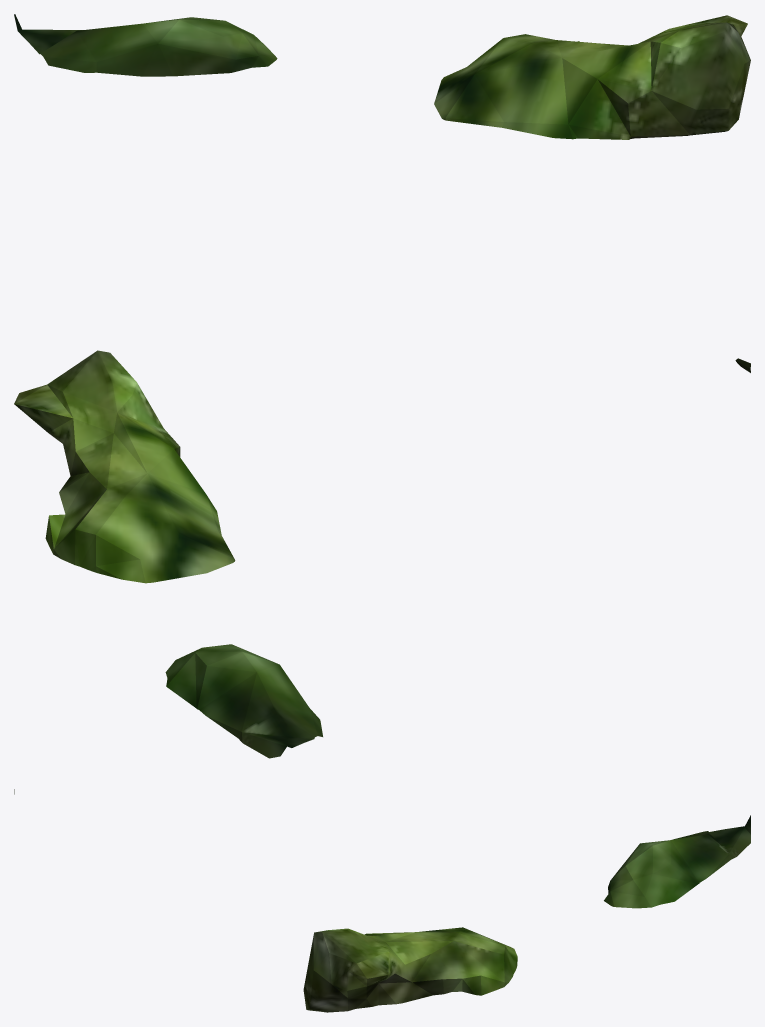
The picture shows the model from 3 angles, top to bottom: view 1: azimuth 30°, elevation 25°; view 2: azimuth 150°, elevation 25°; view 3: azimuth 270°, elevation 25°; orthographic projection. The views are drawn at different scales.
Bounding box in the file's own units: 0.5325 × 0.1031 × 0.8373.
1 material, 1 textured.
